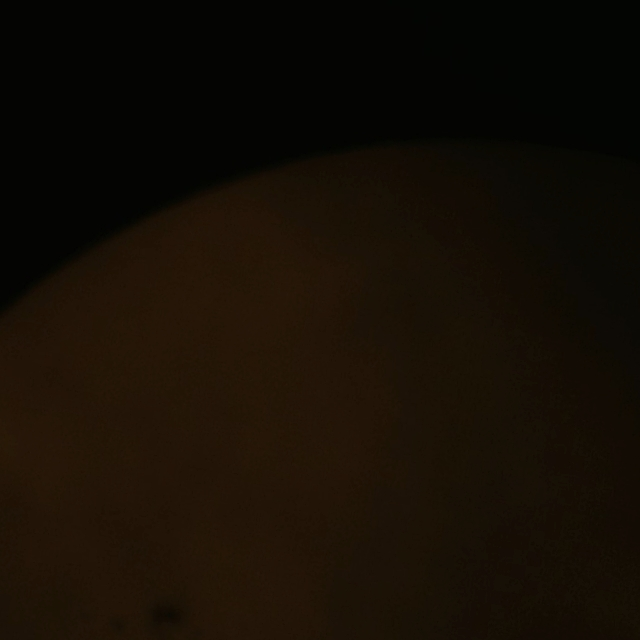sunspot: (112, 578, 233, 640)
